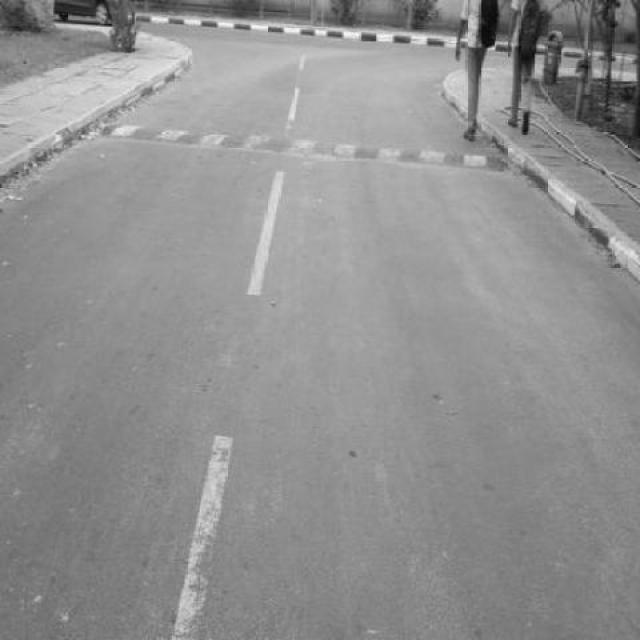Speed Bump: (97, 118, 512, 177)
